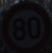Speed Limit -80-: (0, 0, 51, 52)
